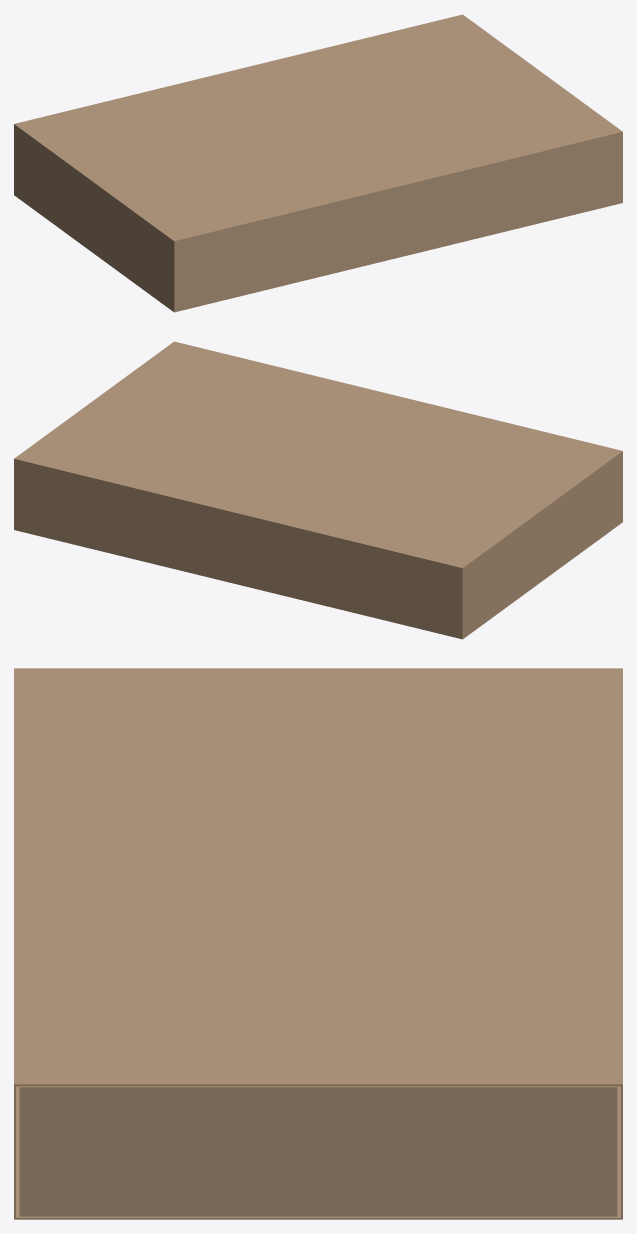
Rendered from preroll-71_5gr-box-side-closed.glb.
The picture shows the model from 3 angles, top to bottom: view 1: azimuth 30°, elevation 25°; view 2: azimuth 150°, elevation 25°; view 3: azimuth 270°, elevation 25°; orthographic projection. The views are drawn at different scales.
Visible parts, largest first — view 1: p15d_s1, p15d_s2, p15d_s4, p15d_s0; view 2: p15d_s1, p15d_s3, p15d_s4, p15d_s0; view 3: p15d_s1, p15d_d4, p15d_tab, p15d_s0, p15d_s2.
Boxes of the visible parts, left/top/right/bottom form: p15d_s1: left=14, top=14, right=622, bottom=242; p15d_s2: left=173, top=131, right=622, bottom=312; p15d_s4: left=14, top=126, right=175, bottom=311; p15d_s0: left=14, top=194, right=615, bottom=311; p15d_s1: left=15, top=341, right=622, bottom=568; p15d_s3: left=14, top=458, right=463, bottom=638; p15d_s4: left=461, top=453, right=622, bottom=638; p15d_s0: left=16, top=522, right=622, bottom=639; p15d_s1: left=14, top=668, right=622, bottom=1086; p15d_d4: left=19, top=1086, right=617, bottom=1216; p15d_tab: left=318, top=1107, right=371, bottom=1204; p15d_s0: left=14, top=1086, right=622, bottom=1219; p15d_s2: left=14, top=668, right=15, bottom=1218.
Bounding box in the file's own units: 0.211 × 0.032 × 0.1305.
